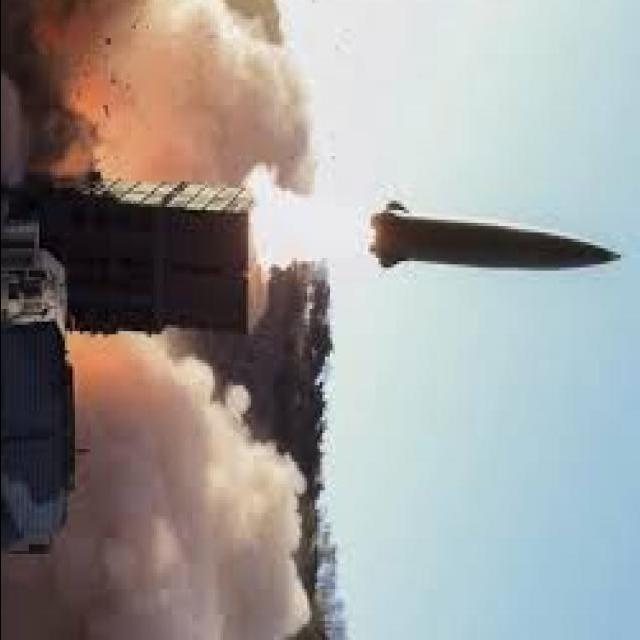missile: (367, 192, 629, 291)
